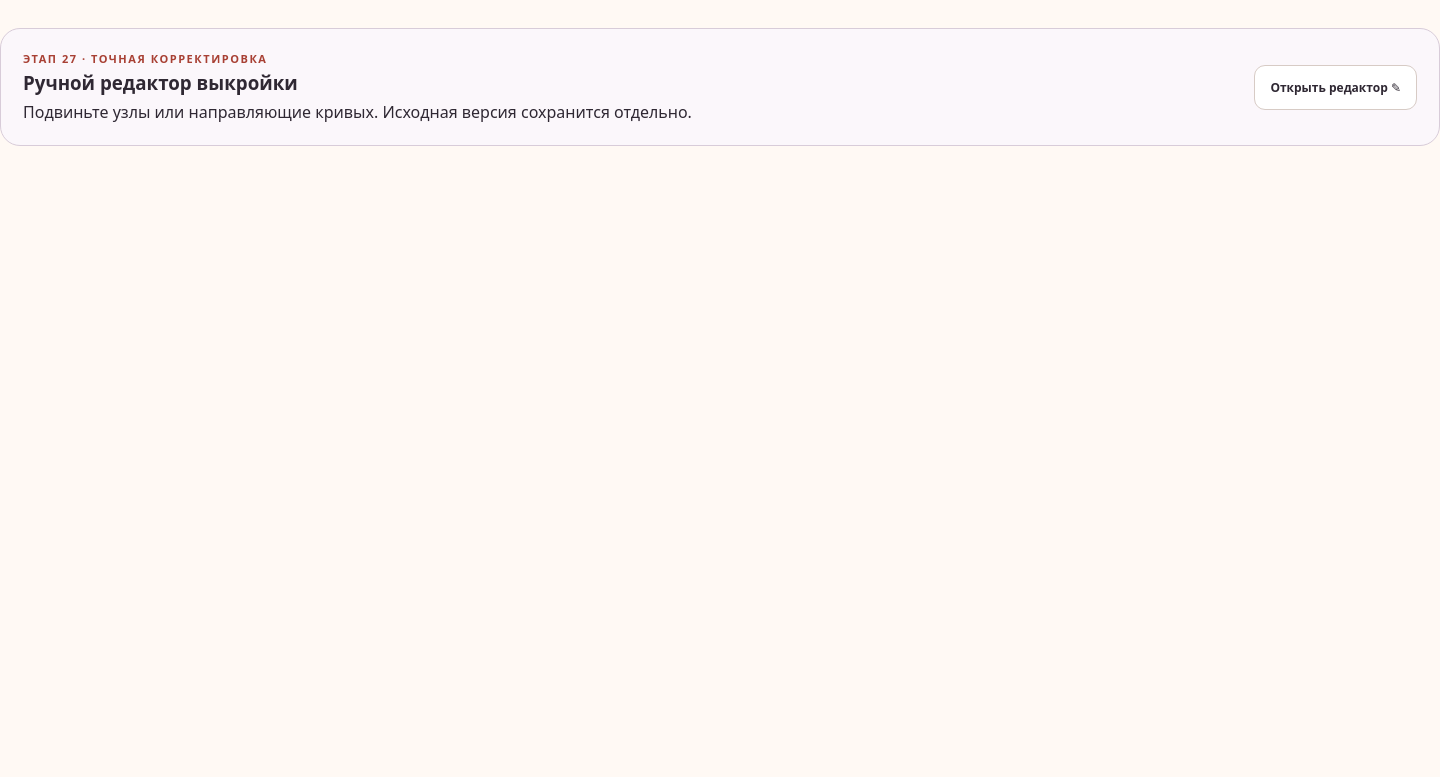
Test: stage 27 pattern geometry editor › edits a real contour with undo, redo and immutable save
Later steps or results of the test are not shown.
Click the button "Открыть редактор ✎": coordinates (1336, 87) [1254, 64, 1417, 110]
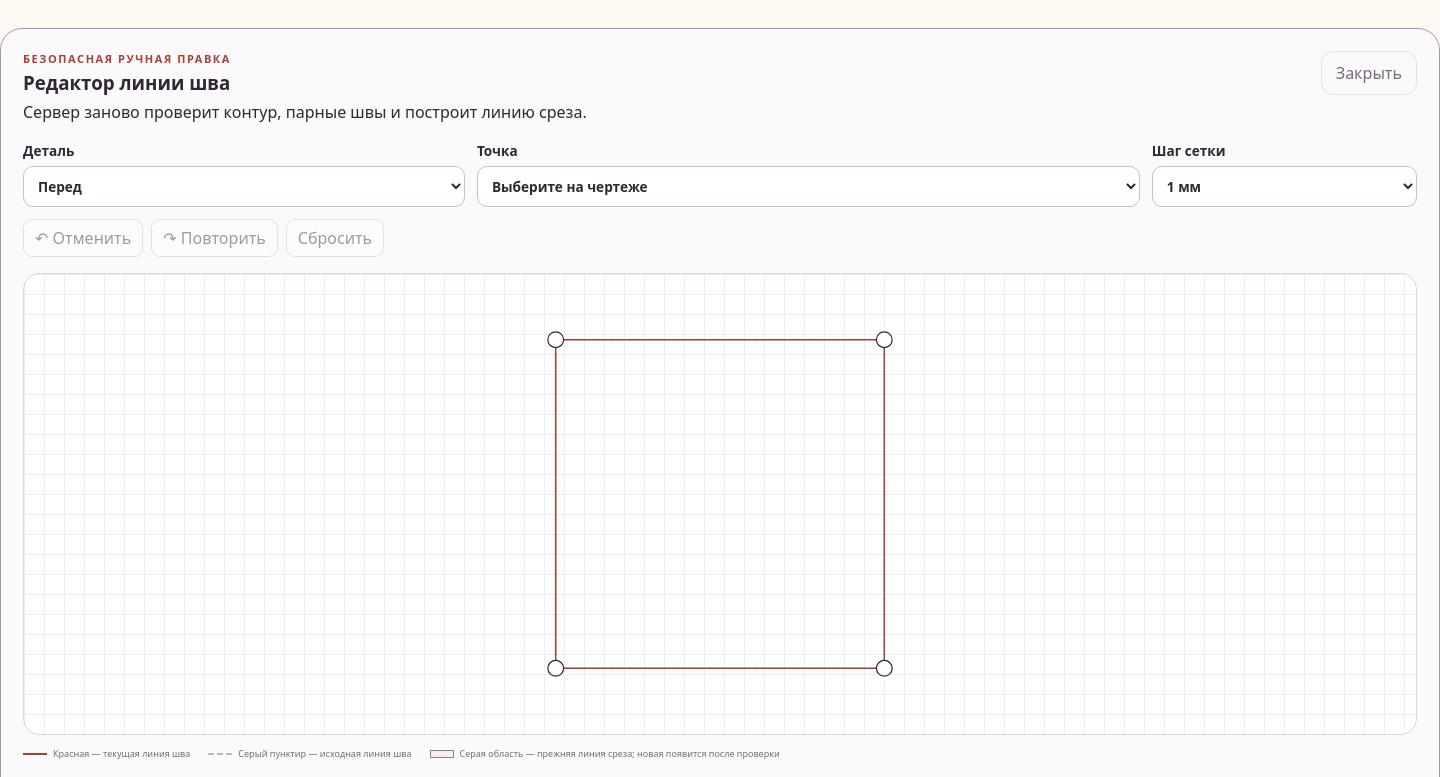
Now the picture named "редактор детали Перед" is shown, box [24, 274, 1416, 734]
Select "Узел · right" in the dropdown labelled "Точка": coordinates (808, 186) [477, 166, 1140, 207]
(page scrolled)
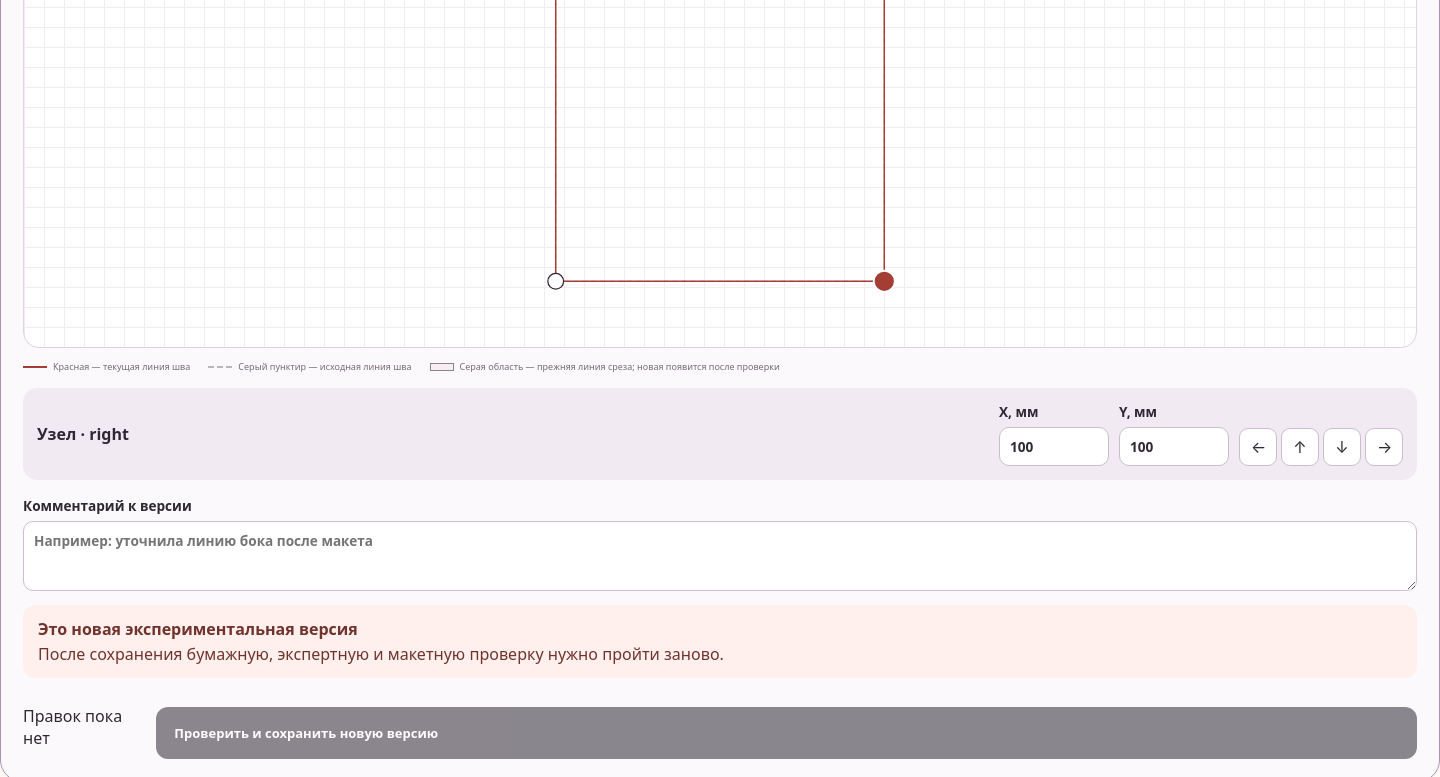
Click the button named "Сдвинуть вправо": coordinates (1384, 447) [1365, 428, 1403, 466]
(page scrolled)
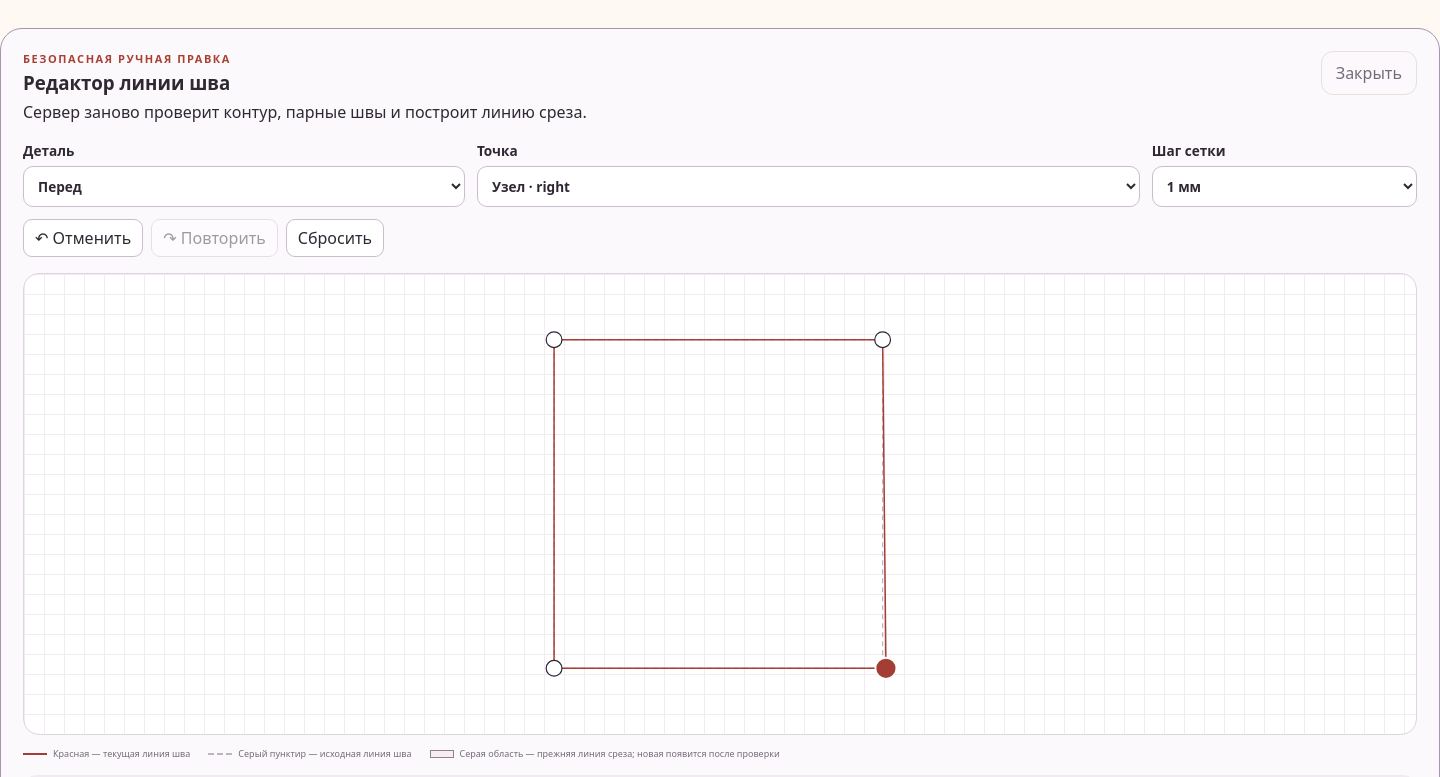
Click the button "↶ Отменить": coordinates (83, 238) [23, 219, 143, 257]
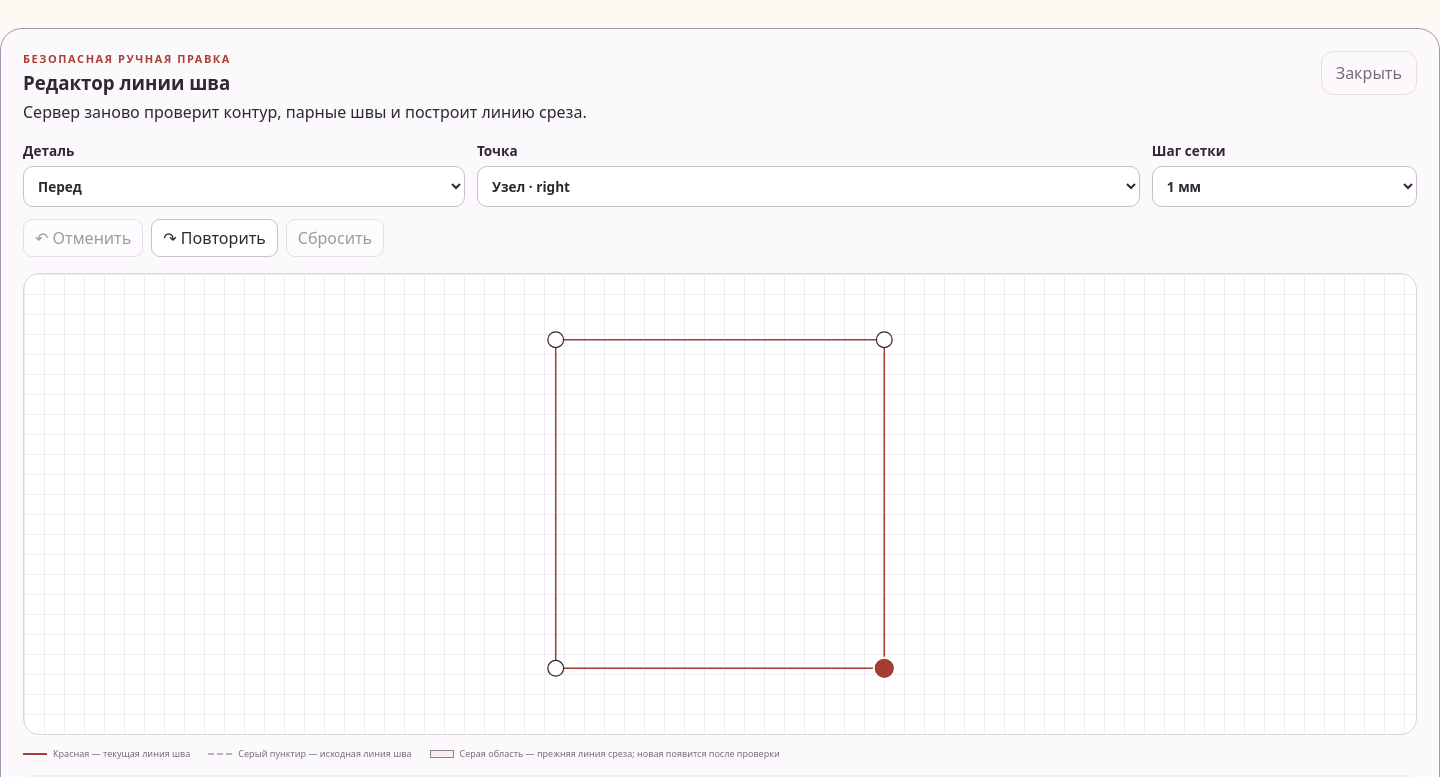
Click the button "↷ Повторить": coordinates (215, 238) [151, 219, 278, 257]
(page scrolled)
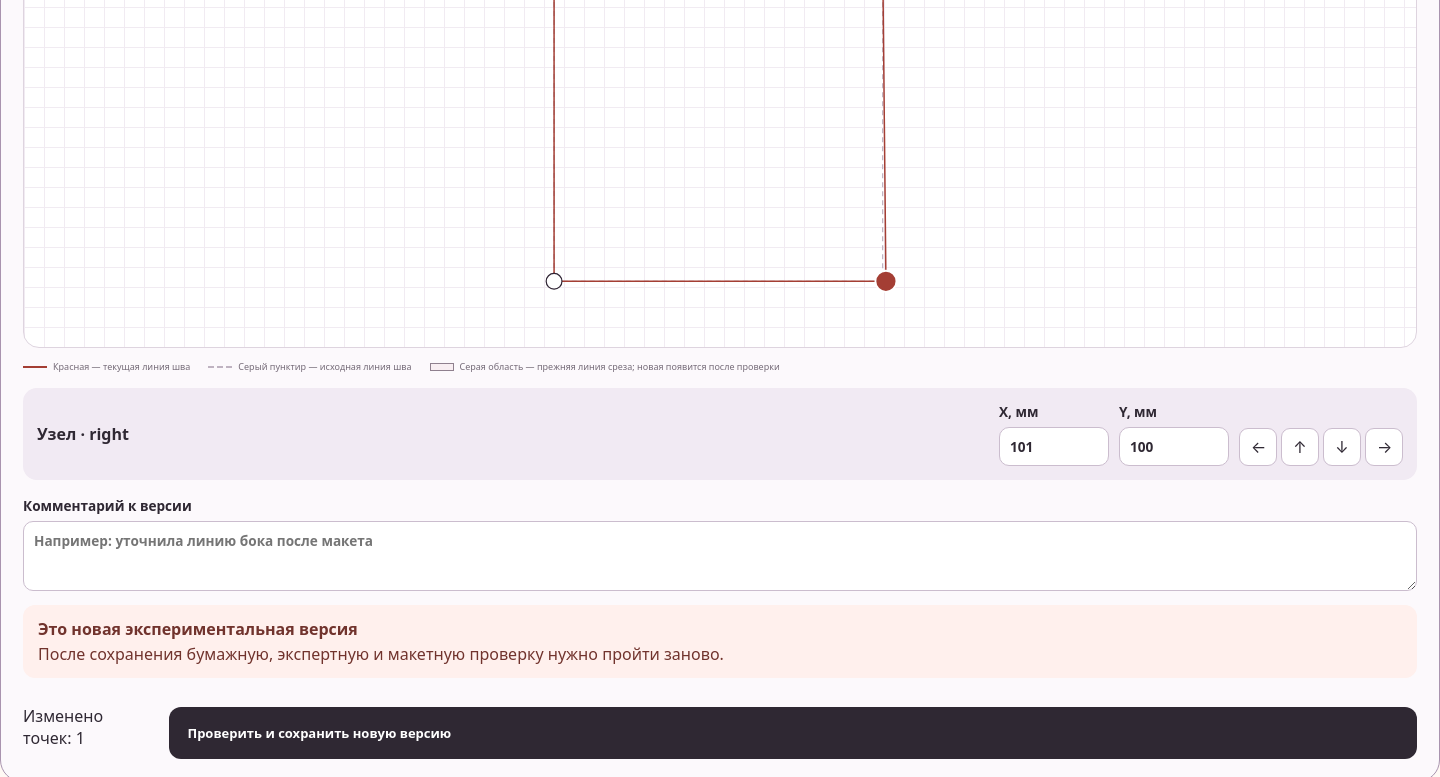
Now the text "Изменено точек: 1" is shown, box [23, 704, 103, 748]
